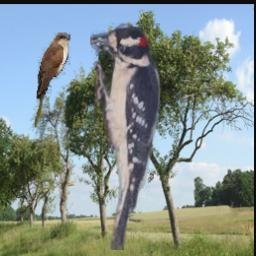Cuckoo: (34, 33, 70, 128)
Woodpecker: (89, 20, 162, 250)
